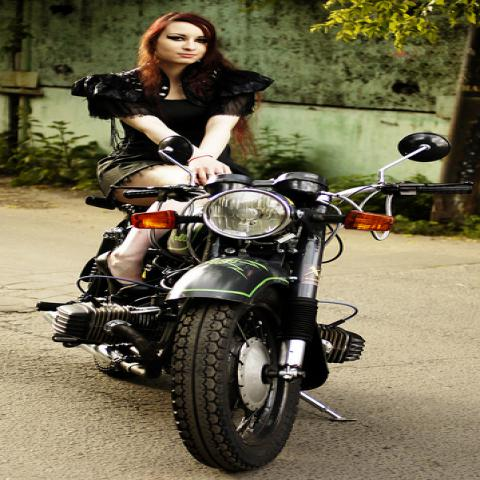motorcycle: (122, 130, 448, 473)
